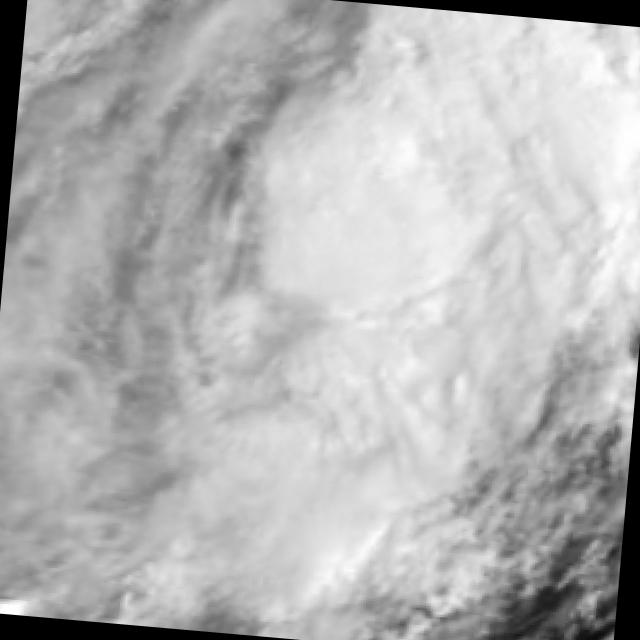CB: (287, 97, 462, 316)
